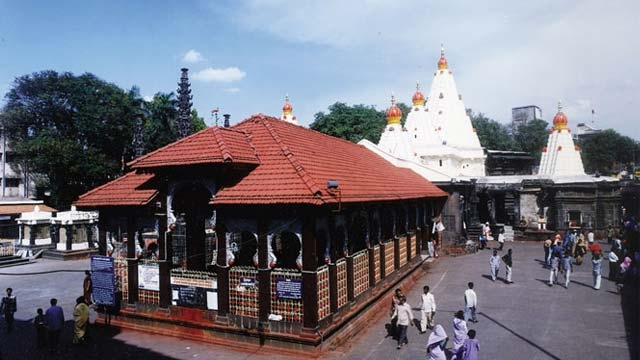Hindu Temple: (107, 102, 412, 318)
